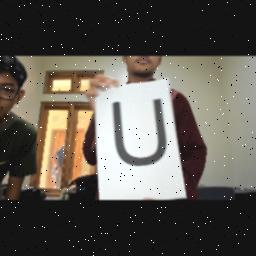u: (110, 94, 172, 168)
